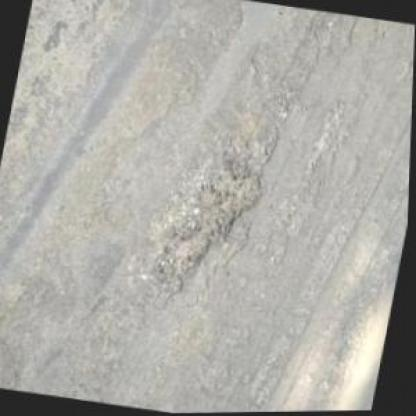pothole: (148, 147, 272, 305), (306, 100, 347, 175)
